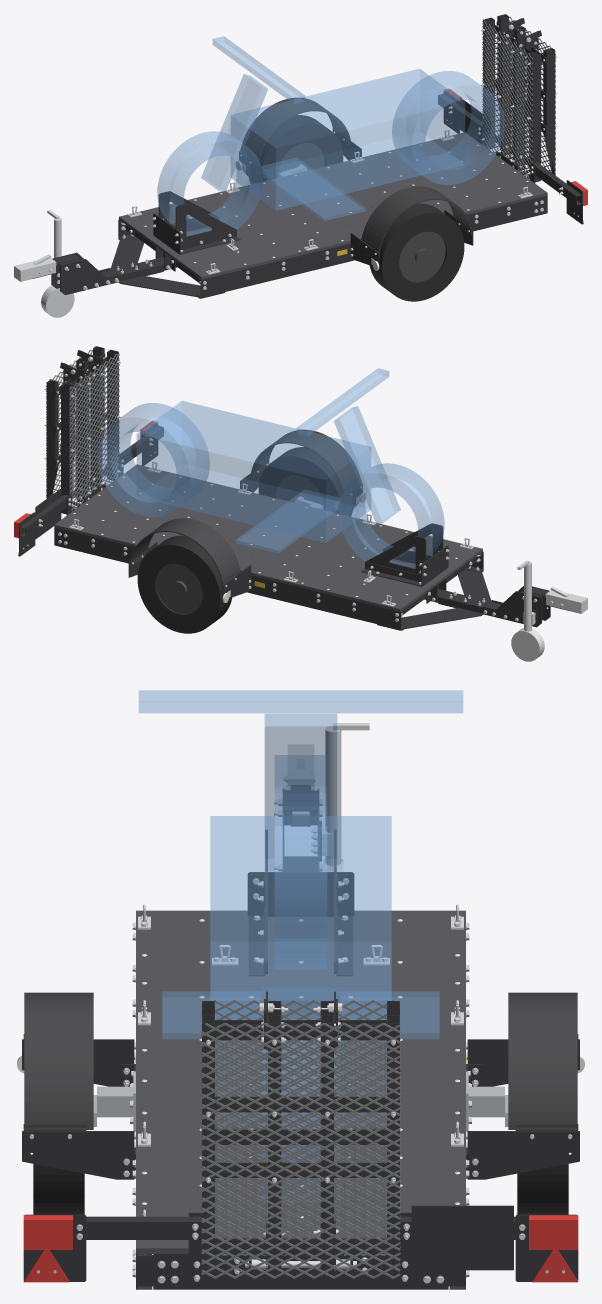
Rendered from przyczepa_v6_transport.glb.
3 views of the same model, one above another, from view 1: azimuth 30°, elevation 25°; view 2: azimuth 150°, elevation 25°; view 3: azimuth 270°, elevation 25° (orthographic). The views are drawn at different scales.
Visible parts, largest first — view 1: MOTOCYKL, P1#1, KUPNE_opony, TRAP_tr_SIATKA#1, KUPNE_blotniki, R2-P#1, KUPNE_felgi, G1#1, TRAP_tr_T1-Z-2#21, N1-P#1, TRAP_tr_T1-Z-1#11, KUPNE_kolko (+14 smaller); view 2: MOTOCYKL, P1#1, KUPNE_opony, TRAP_tr_SIATKA#1, KUPNE_blotniki, R2-L#1, KUPNE_felgi, G1#1, KUPNE_kolko, TRAP_tr_T1-Z-2#22, TRAP_tr_T1-Z-1#12, TRAP_tr_T1-N-1#11 (+15 smaller); view 3: P1#1, MOTOCYKL, TRAP_tr_SIATKA#2, KUPNE_blotniki, TRAP_tr_SIATKA#1, KUPNE_belka, KUPNE_lampy, R3#1, KUPNE_opony, B1#2, B1#4, KL2#1 (+20 smaller).
Boxes of the visible parts, bbox=[...] form: MOTOCYKL: bbox=[157, 36, 504, 235]; P1#1: bbox=[119, 132, 547, 279]; KUPNE_opony: bbox=[249, 115, 464, 301]; TRAP_tr_SIATKA#1: bbox=[482, 20, 532, 179]; KUPNE_blotniki: bbox=[240, 97, 471, 257]; R2-P#1: bbox=[196, 195, 547, 297]; KUPNE_felgi: bbox=[278, 143, 445, 281]; G1#1: bbox=[110, 237, 224, 298]; TRAP_tr_T1-Z-2#21: bbox=[543, 48, 555, 174]; N1-P#1: bbox=[60, 259, 118, 295]; TRAP_tr_T1-Z-1#11: bbox=[529, 51, 540, 182]; KUPNE_kolko: bbox=[41, 210, 74, 317]; MOTOCYKL: bbox=[97, 368, 444, 567]; P1#1: bbox=[54, 464, 482, 611]; KUPNE_opony: bbox=[137, 447, 352, 633]; TRAP_tr_SIATKA#1: bbox=[69, 353, 119, 511]; KUPNE_blotniki: bbox=[130, 429, 361, 589]; R2-L#1: bbox=[54, 527, 405, 629]; KUPNE_felgi: bbox=[156, 475, 323, 613]; G1#1: bbox=[377, 569, 491, 630]; KUPNE_kolko: bbox=[511, 560, 544, 661]; TRAP_tr_T1-Z-2#22: bbox=[46, 380, 58, 498]; TRAP_tr_T1-Z-1#12: bbox=[61, 383, 72, 514]; TRAP_tr_T1-N-1#11: bbox=[90, 362, 102, 491]; P1#1: bbox=[136, 910, 465, 1253]; MOTOCYKL: bbox=[139, 690, 462, 1201]; TRAP_tr_SIATKA#2: bbox=[201, 1022, 400, 1278]; KUPNE_blotniki: bbox=[23, 992, 578, 1130]; TRAP_tr_SIATKA#1: bbox=[201, 999, 400, 1255]; KUPNE_belka: bbox=[411, 1205, 513, 1270]; KUPNE_lampy: bbox=[23, 1215, 578, 1282]; R3#1: bbox=[153, 1254, 448, 1289]; KUPNE_opony: bbox=[33, 1152, 568, 1214]; B1#2: bbox=[22, 1131, 134, 1179]; B1#4: bbox=[467, 1131, 579, 1179]; KL2#1: bbox=[247, 872, 354, 916].
Size of the model in its own units: 3.61 by 1.39 by 1.72.
